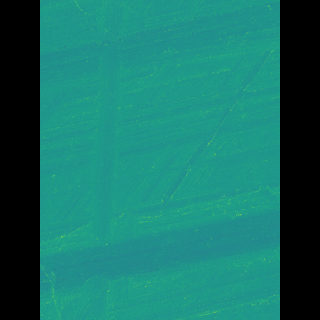Loch: (70, 173, 251, 254), (94, 0, 136, 320)
